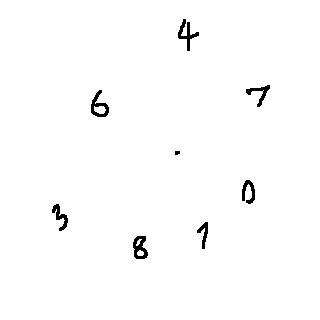.: (168, 142, 187, 161)
0: (235, 176, 265, 214)
1: (194, 214, 221, 263)
3: (47, 198, 82, 247)
4: (171, 10, 207, 70)
6: (85, 83, 112, 129)
7: (246, 73, 274, 122)
8: (121, 228, 163, 273)
